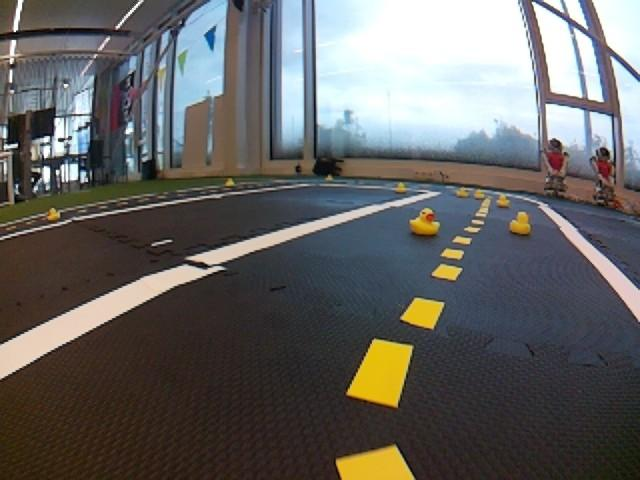Duckies: (409, 207, 442, 238), (509, 212, 532, 237), (496, 194, 511, 209), (46, 207, 61, 221), (394, 182, 408, 195), (456, 187, 470, 199), (472, 188, 486, 200), (224, 178, 236, 188), (325, 174, 334, 182)
